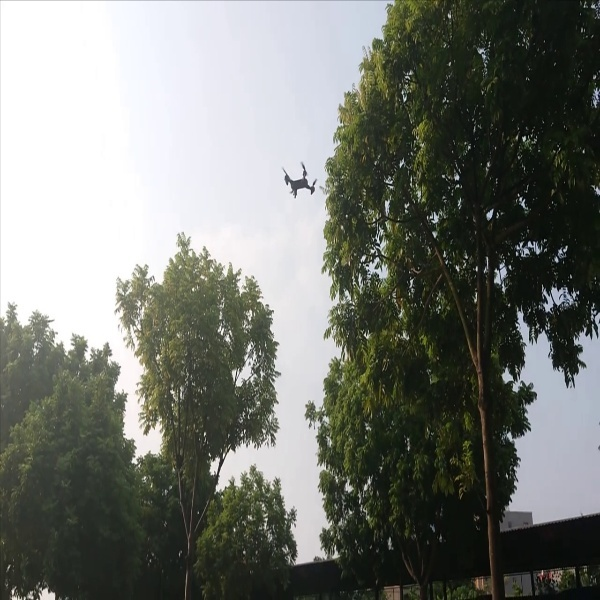drone: (274, 159, 316, 204)
